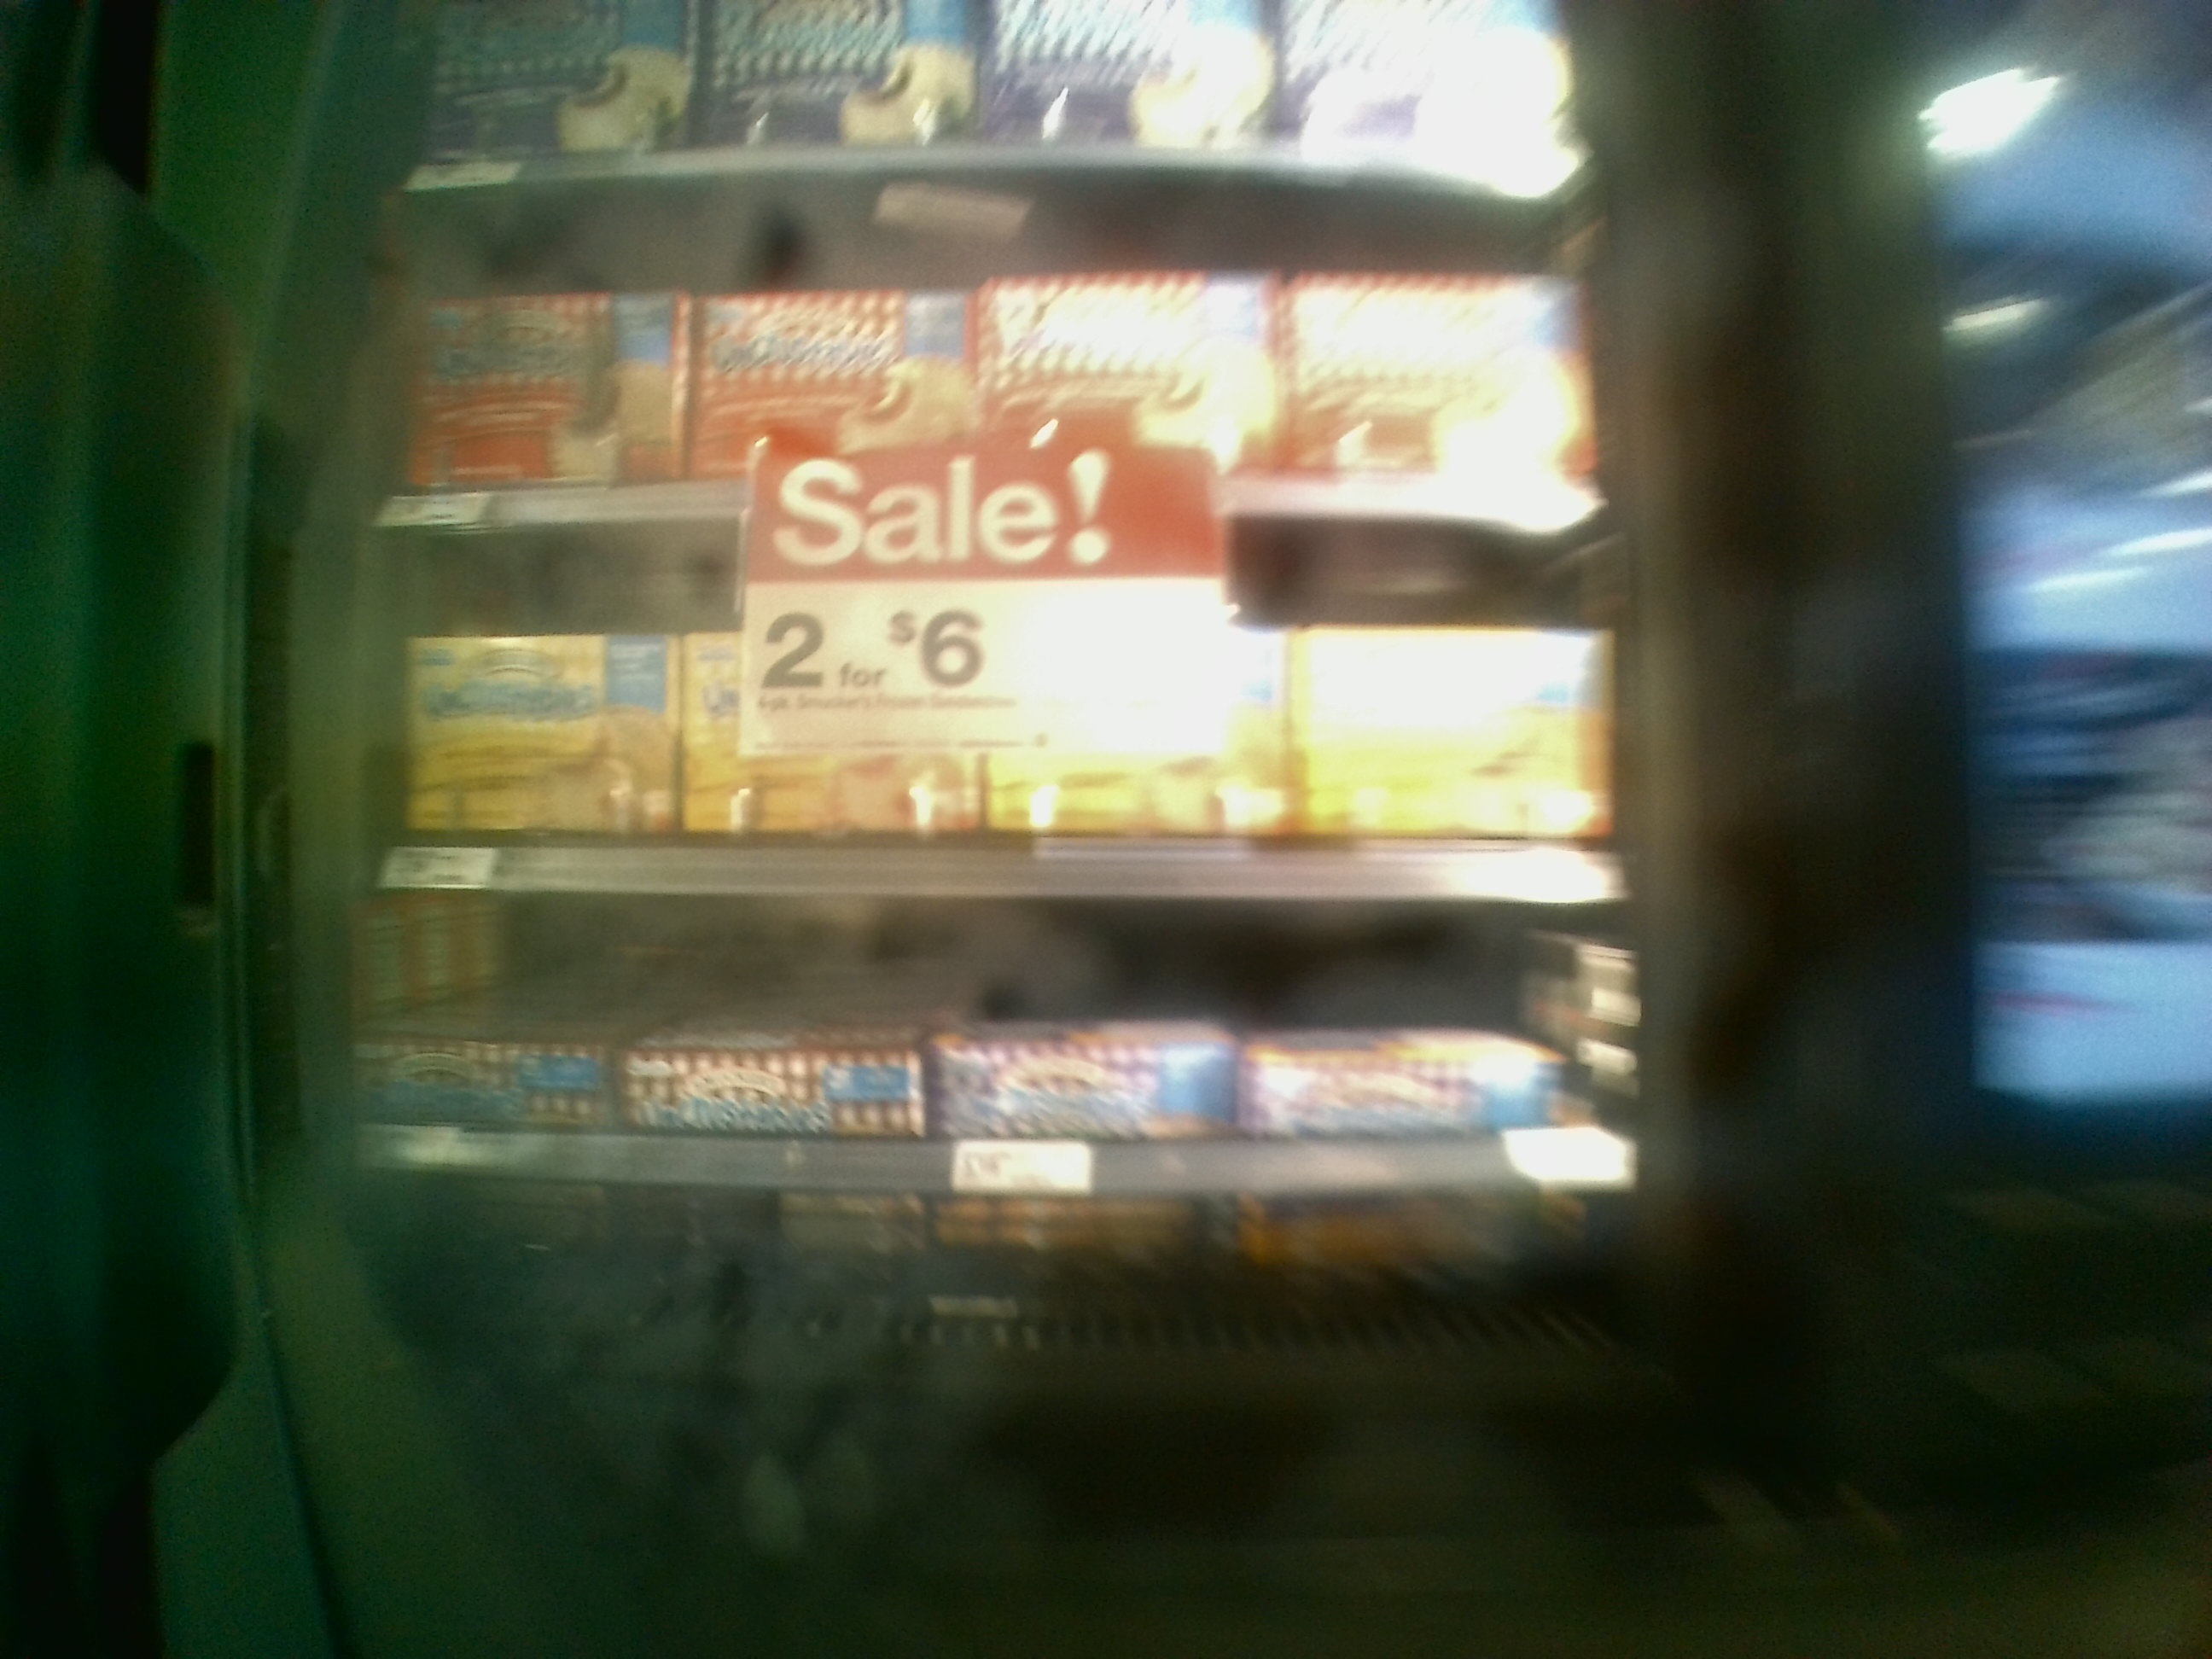shelf: (354, 894, 1677, 1420), (364, 528, 1620, 918), (380, 197, 1581, 530)
